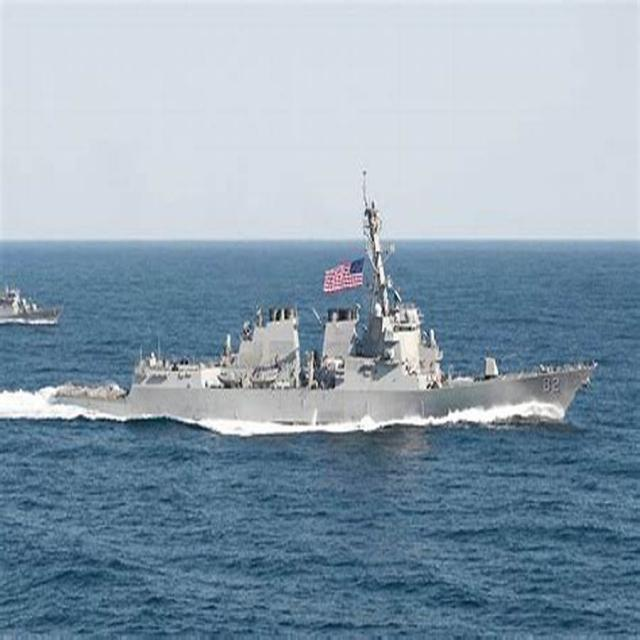navalvessels: (56, 168, 598, 466), (0, 276, 73, 320)
